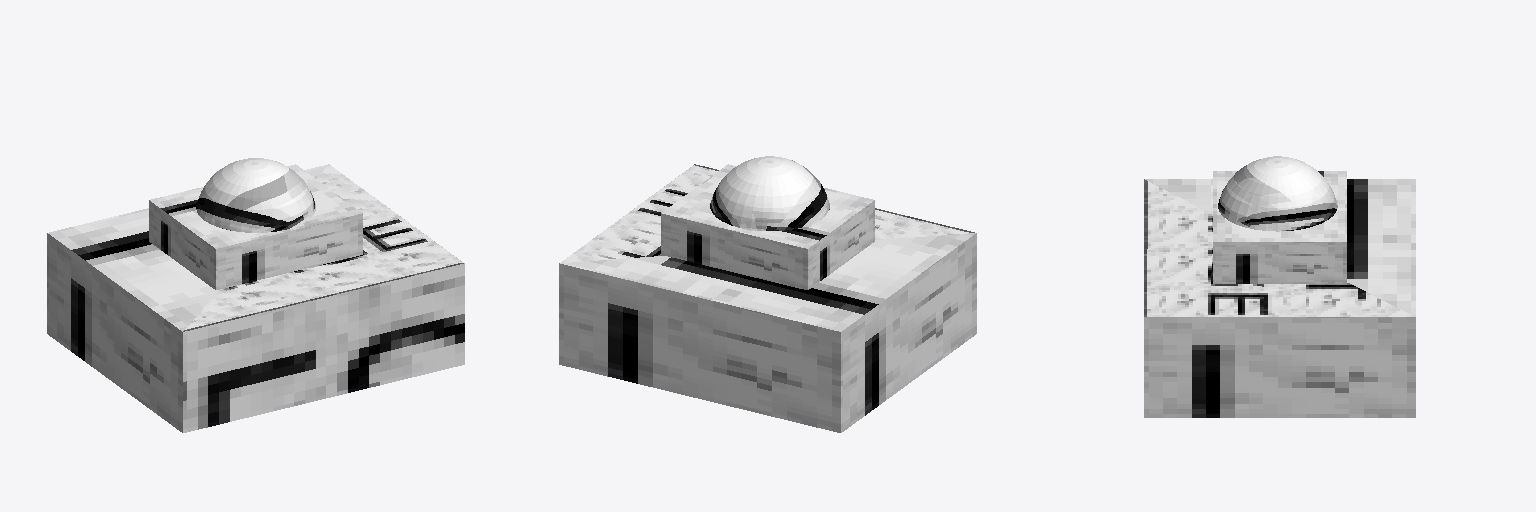
The picture shows the model from 3 angles: view 1: azimuth 30°, elevation 25°; view 2: azimuth 150°, elevation 25°; view 3: azimuth 270°, elevation 25°; orthographic projection.
Visible parts, largest first — view 1: Cube.001_Cube.002; view 2: Cube.001_Cube.002; view 3: Cube.001_Cube.002.
Part boxes in pixels (bbox=[...]): Cube.001_Cube.002: bbox=[47, 158, 464, 432]; Cube.001_Cube.002: bbox=[559, 156, 976, 432]; Cube.001_Cube.002: bbox=[1144, 156, 1415, 417].
Size of the model in its own units: 19.72 by 12.51 by 16.44.
1 materials, 1 textured.